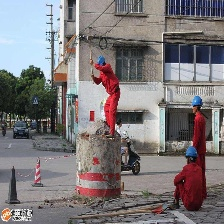helmet: (184, 146, 199, 159), (98, 54, 107, 67), (193, 94, 202, 107)
person: (91, 55, 123, 140), (170, 147, 206, 214), (189, 94, 208, 145)
